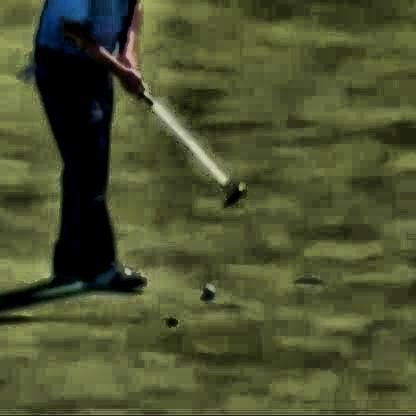golfball: (199, 282, 215, 295)
